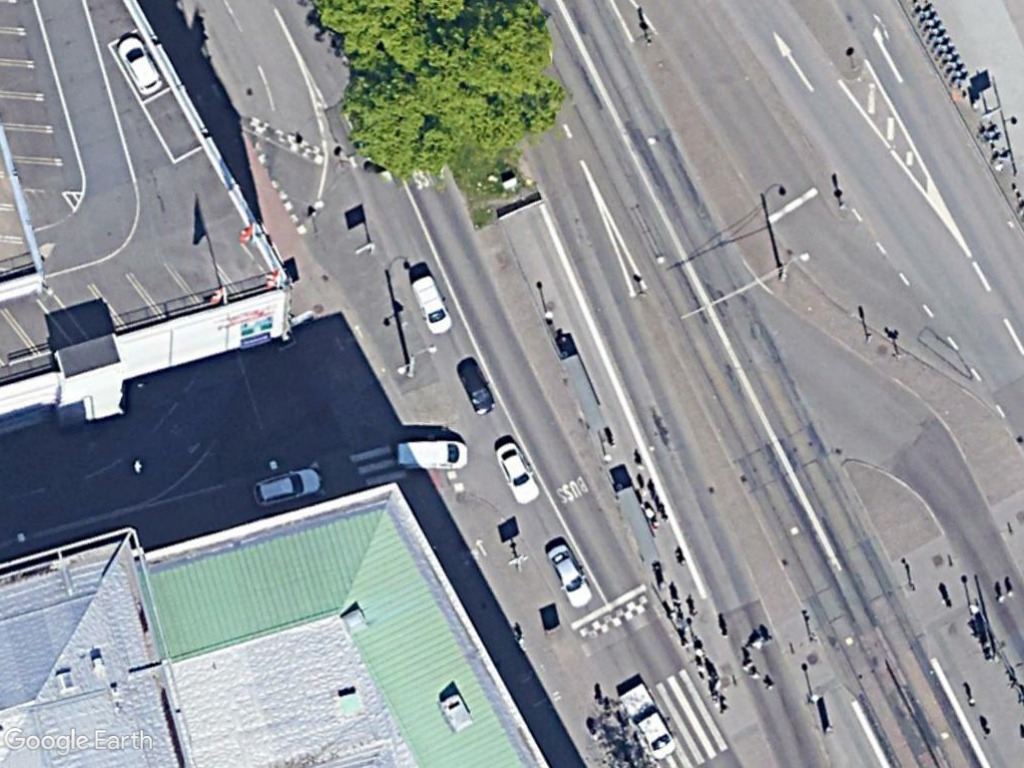car: (540, 538, 599, 615), (111, 28, 169, 100), (491, 436, 544, 509), (246, 465, 326, 513), (453, 355, 499, 421)
van: (387, 431, 474, 473), (410, 269, 456, 344)
